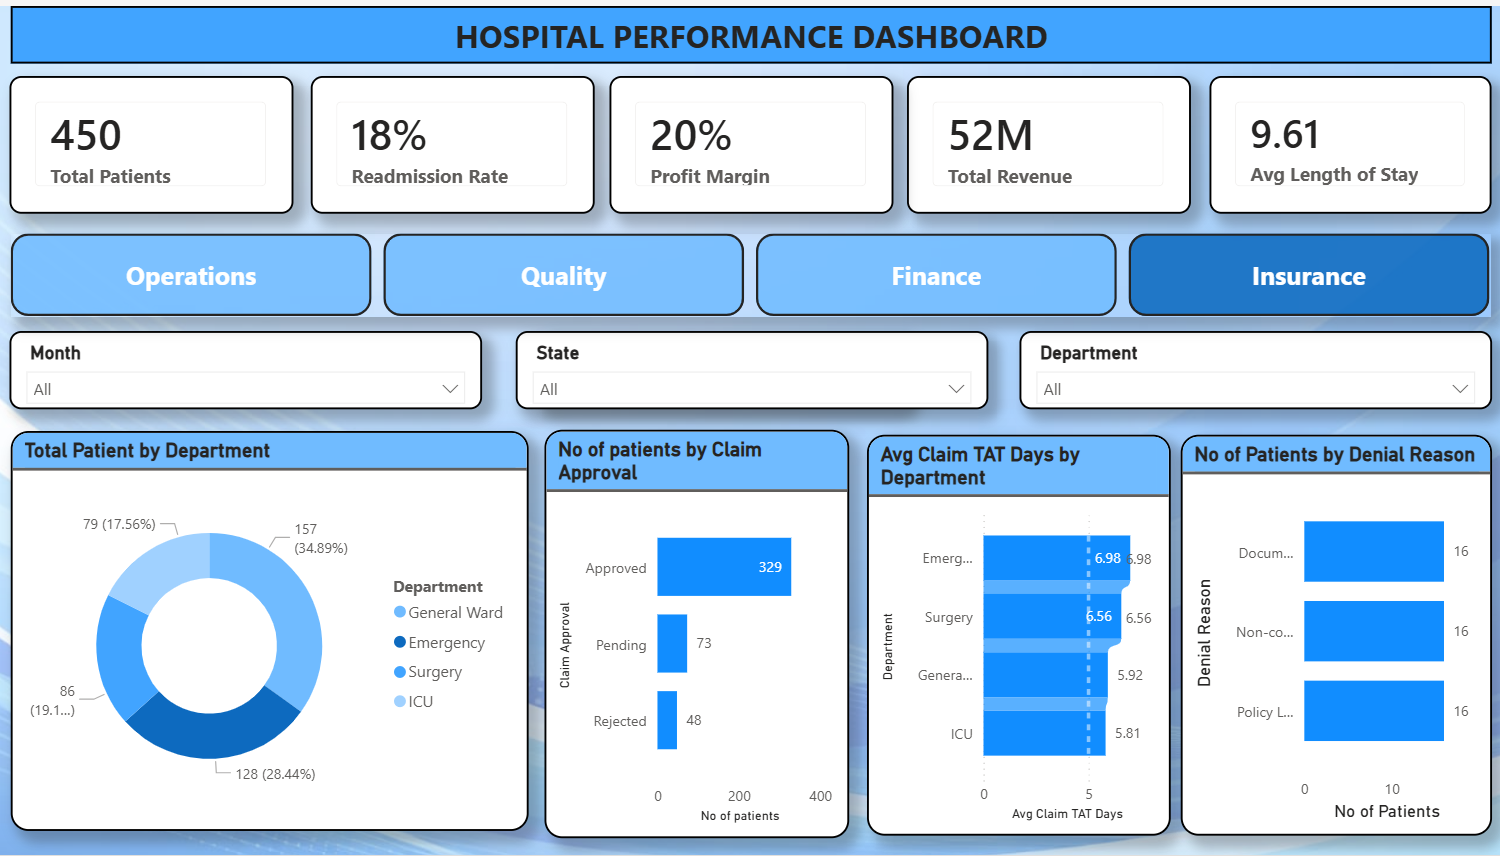

Layout of this report page (visuals, bound fields, positions):
{"tool":"powerbi","page":{"name":"Page 1","canvas":[1280,720],"ordinal":0},"visuals":[{"type":"textbox","box":[11.6,0,1256.4,48.8],"z":0},{"type":"lineChart","fields":{"Category":["Sheet1.Month"],"Y":["Sum(Sheet1.Infection_Flag)"]},"box":[9.7,360.3,438.3,343.7],"z":0,"group":"g1"},{"type":"actionButton","box":[457.6,275.4,314.6,64.7],"z":1000},{"type":"clusteredBarChart","fields":{"Category":["Sheet1.Department"],"Y":["Sheet1.Readmission Rate"]},"box":[461.9,360.3,260.2,343.7],"z":1000,"group":"g1"},{"type":"slicer","fields":{"Values":["Sheet1.Month"]},"box":[11.1,275.5,400.7,66.8],"z":2000},{"type":"gauge","fields":{"TargetValue":["Sum(Sheet1.Target_Satisfaction)"],"Y":["Avg(Sheet1.Satisfaction_Score)"]},"box":[737.4,363.1,257.4,343.7],"z":2000,"group":"g1"},{"type":"slicer","fields":{"Values":["Sheet1.State"]},"box":[439.7,275.5,400.7,66.8],"z":3000},{"type":"barChart","fields":{"Y":["Sheet1.Mortality Rate %"],"Category":["Sheet1.Department"]},"box":[1003.1,363.1,264.3,343.7],"z":3000,"group":"g1"},{"type":"slicer","fields":{"Values":["Sheet1.Department"]},"box":[866.8,275.5,400.7,66.8],"z":4000},{"type":"cardVisual","title":"Total Patients","fields":{"Data":["Sheet1.total patients"]},"box":[11.1,59.8,240.7,116.9],"z":5000},{"type":"cardVisual","fields":{"Data":["Sum(Sheet1.Revenue)"]},"box":[772.2,59.8,240.7,116.9],"z":6000},{"type":"cardVisual","fields":{"Data":["Sheet1.Readmission Rate"]},"box":[265.7,59.8,240.7,116.9],"z":7000},{"type":"cardVisual","fields":{"Data":["Sheet1.Profit Margin %"]},"box":[519,59.8,240.7,116.9],"z":8000},{"type":"cardVisual","fields":{"Data":["Avg(Sheet1.Length_of_Stay)"]},"box":[1028.2,59.8,239.3,116.9],"z":9000},{"type":"group","id":"g1","title":"Quality","box":[9.7,360.3,1257.7,346.4],"z":11000},{"type":"bookmarkNavigator","box":[12,192.7,1255.3,70.7],"z":14000}]}

Visuals, with their boxes in screenshot pixels (x1, y1, x2, y2), scaled from the page's 1280x720 canvas onto the 1500x856 screenshot:
textbox: bbox(14, 0, 1486, 58)
lineChart - Sheet1.Month x Sum(Sheet1.Infection_Flag): bbox(11, 428, 525, 837)
actionButton: bbox(536, 327, 905, 404)
clusteredBarChart - Sheet1.Department x Sheet1.Readmission Rate: bbox(541, 428, 846, 837)
slicer - Sheet1.Month: bbox(13, 328, 483, 407)
gauge - Sum(Sheet1.Target_Satisfaction) x Avg(Sheet1.Satisfaction_Score): bbox(864, 432, 1166, 840)
slicer - Sheet1.State: bbox(515, 328, 985, 407)
barChart - Sheet1.Mortality Rate % x Sheet1.Department: bbox(1176, 432, 1485, 840)
slicer - Sheet1.Department: bbox(1016, 328, 1485, 407)
"Total Patients" cardVisual: bbox(13, 71, 295, 210)
cardVisual - Sum(Sheet1.Revenue): bbox(905, 71, 1187, 210)
cardVisual - Sheet1.Readmission Rate: bbox(311, 71, 593, 210)
cardVisual - Sheet1.Profit Margin %: bbox(608, 71, 890, 210)
cardVisual - Avg(Sheet1.Length_of_Stay): bbox(1205, 71, 1485, 210)
"Quality" group: bbox(11, 428, 1485, 840)
bookmarkNavigator: bbox(14, 229, 1485, 313)
